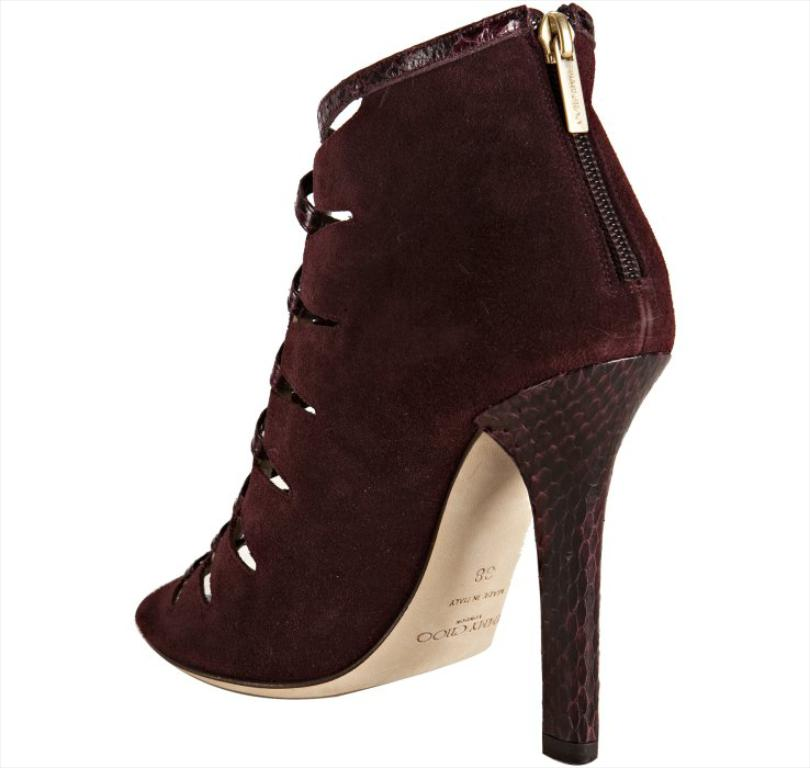face: (289, 81, 495, 497)
